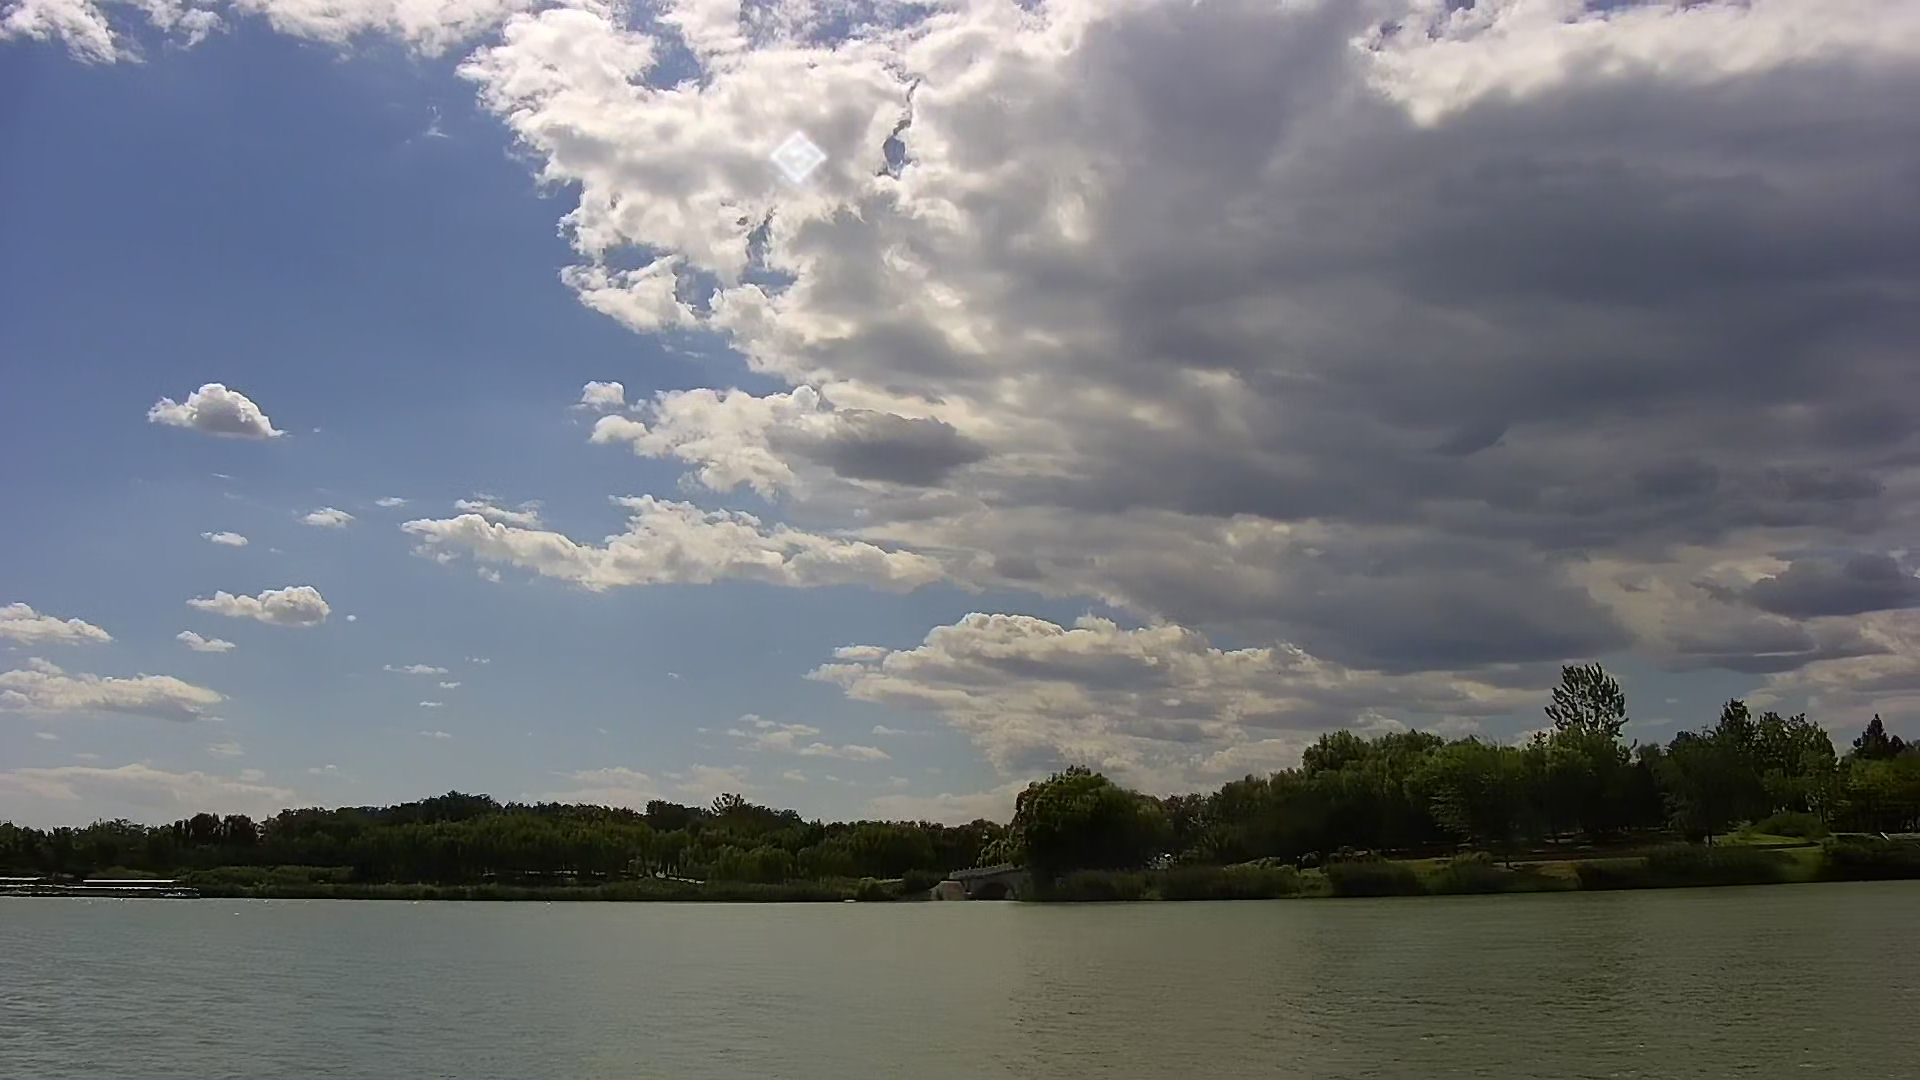harbor: (4, 868, 189, 903)
